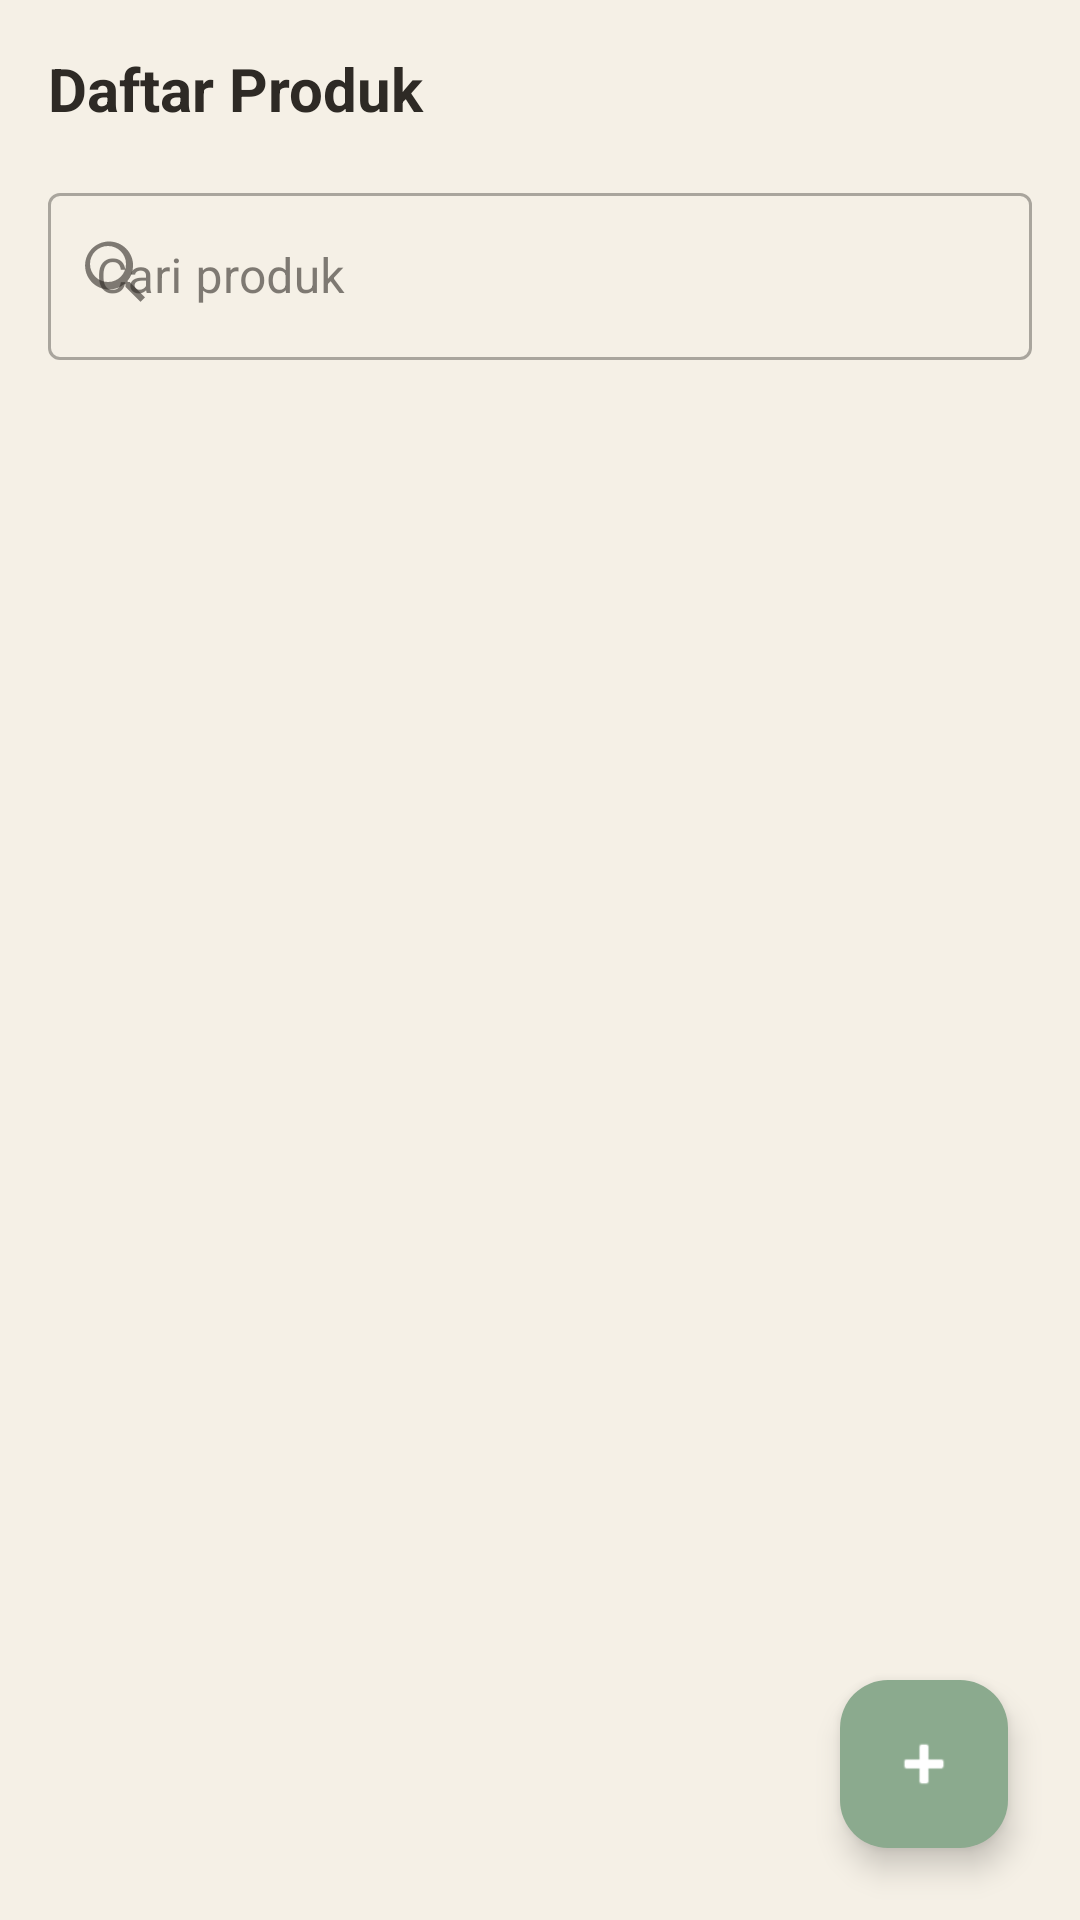

Screen size 1080 × 1920. Icon name, then its center in pixels as [x,y]:
Tambah Produk: [924,1764]
